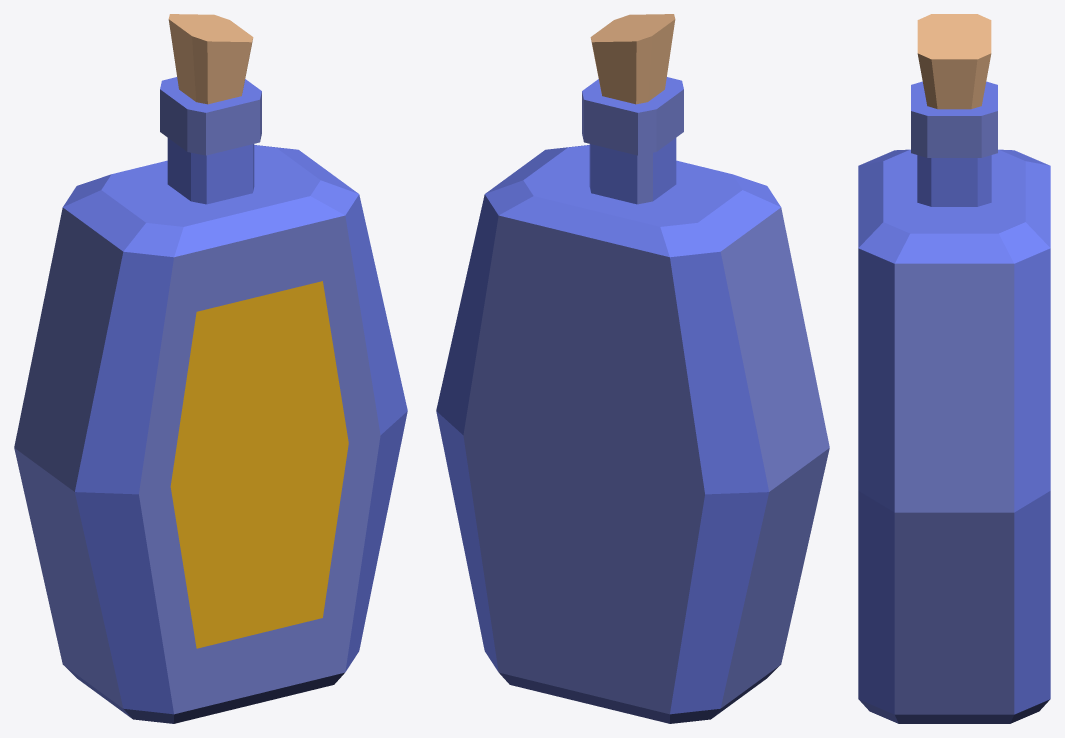
File: Bottle_09.glb
3 views of the same model, side by side, from view 1: azimuth 30°, elevation 25°; view 2: azimuth 150°, elevation 25°; view 3: azimuth 270°, elevation 25° (orthographic).
Visible parts, largest first — view 1: Bottle_09; view 2: Bottle_09; view 3: Bottle_09.
Boxes of the visible parts, x1,y1,x2,y2 form: Bottle_09: (14, 14, 407, 723); Bottle_09: (436, 14, 829, 723); Bottle_09: (858, 14, 1050, 723).
Size of what is drawn, in the model's own units: 0.2656 by 0.4976 by 0.1346.
Materials: 1 (1 with a texture image).
